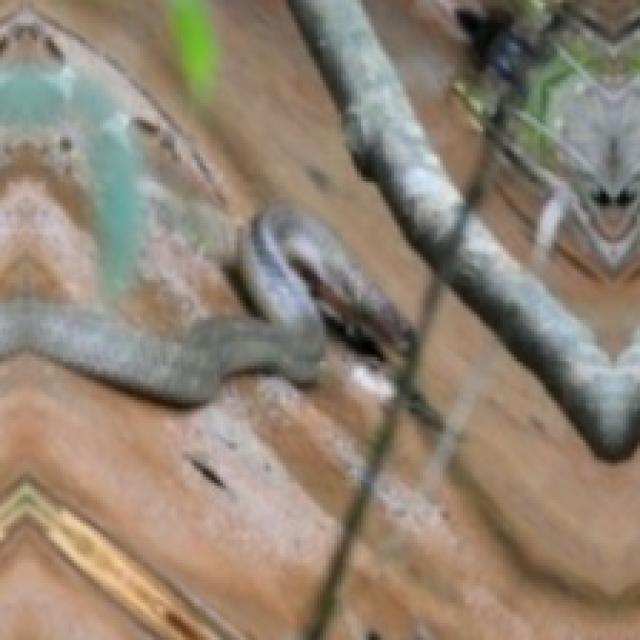king cobra: (0, 9, 411, 403), (0, 203, 411, 403)
